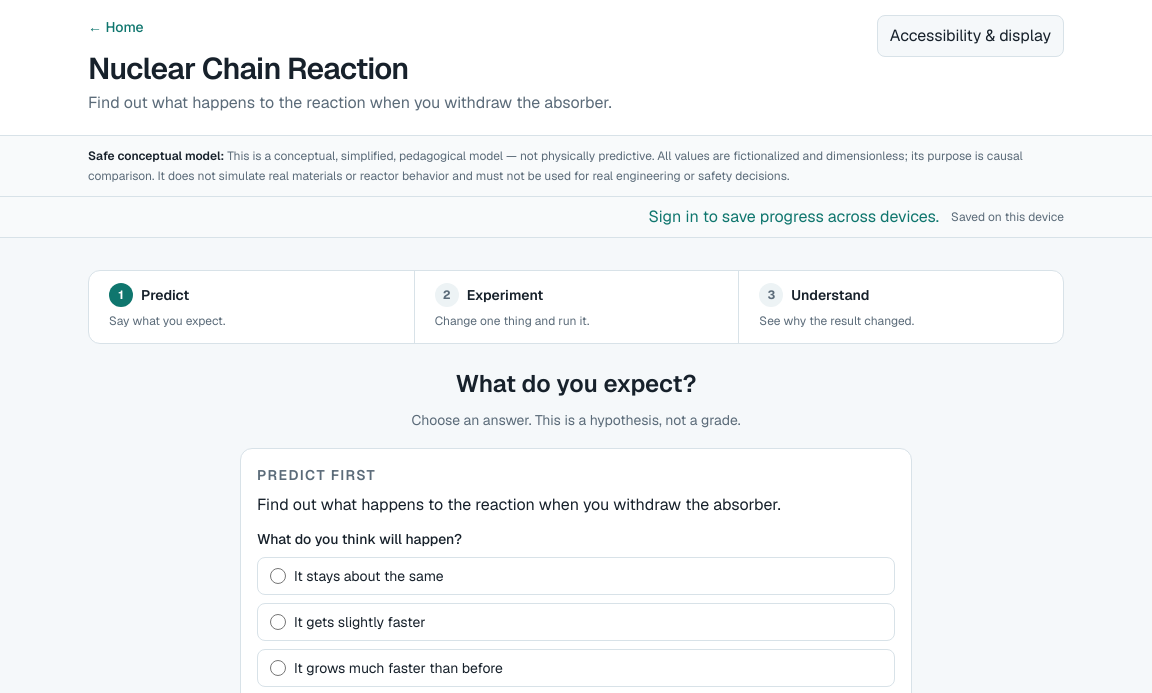
Test case: ExperimentShell main learner flow › shows the safety-ceiling notice for an explosive run
Click the radio button labelled "It gets slightly faster" at [278, 622], box [270,614,286,630]
(page scrolled)
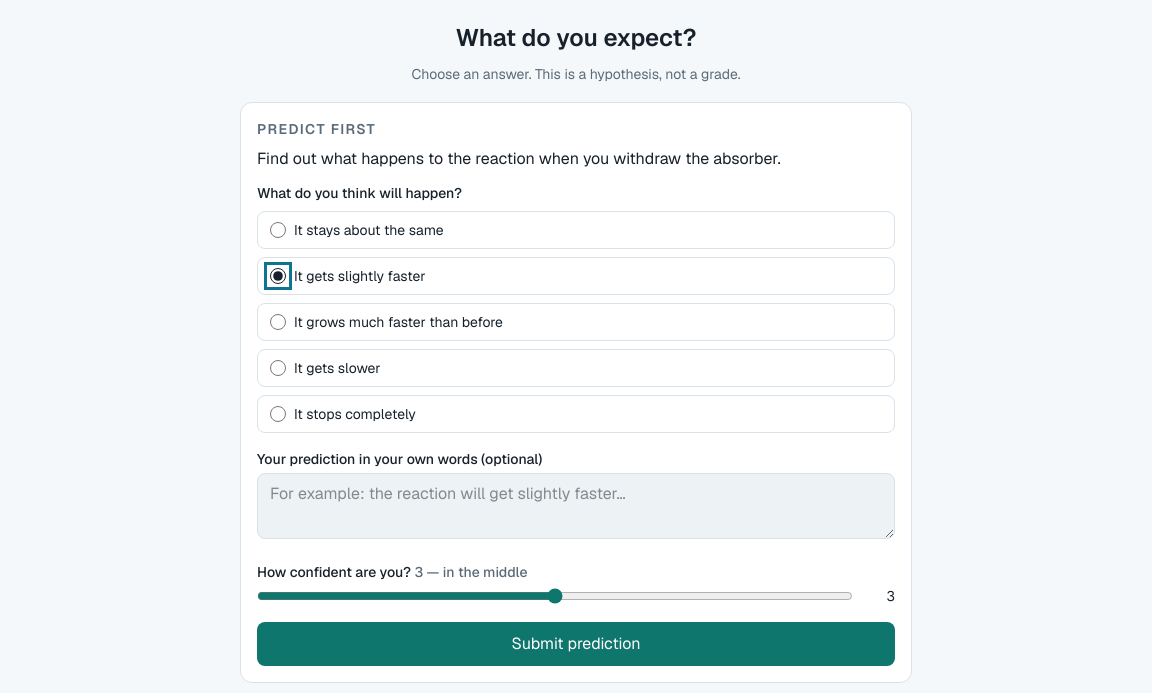
Click the button "Submit prediction" at [576, 644], box [257,622,895,666]
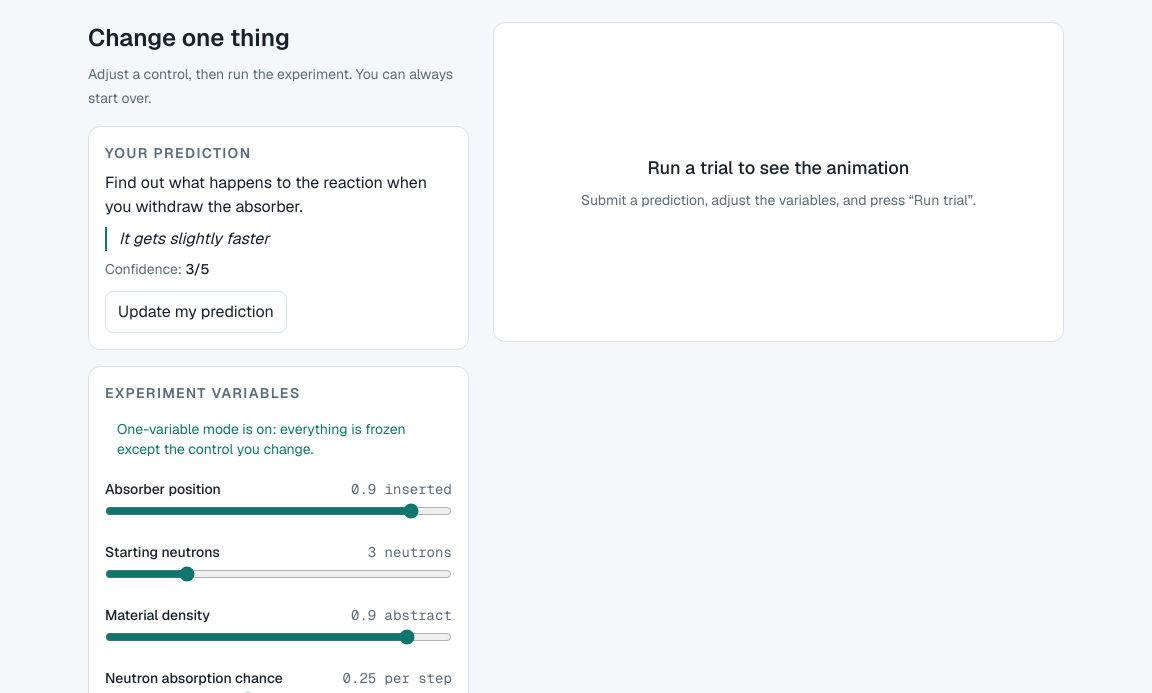
Set the slider labelled "Absorber position" to "0" at [113, 511], box [105,503,452,519]
(page scrolled)
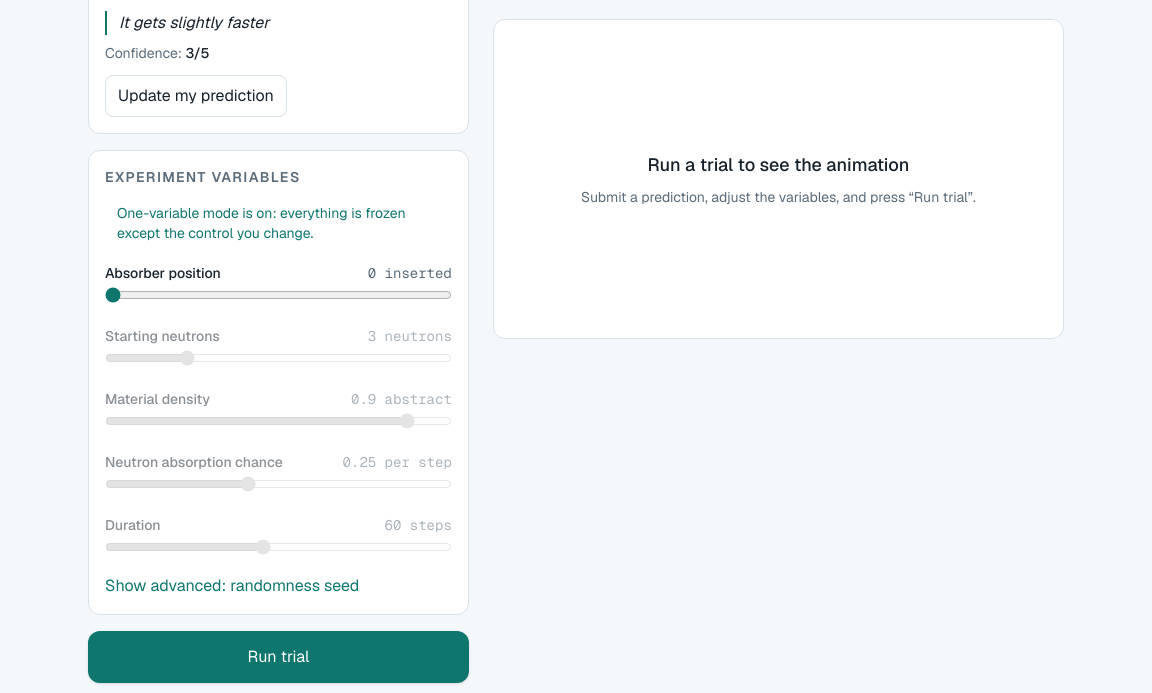
Click the button "Run trial" at [278, 657], box [88,631,469,683]
(page scrolled)
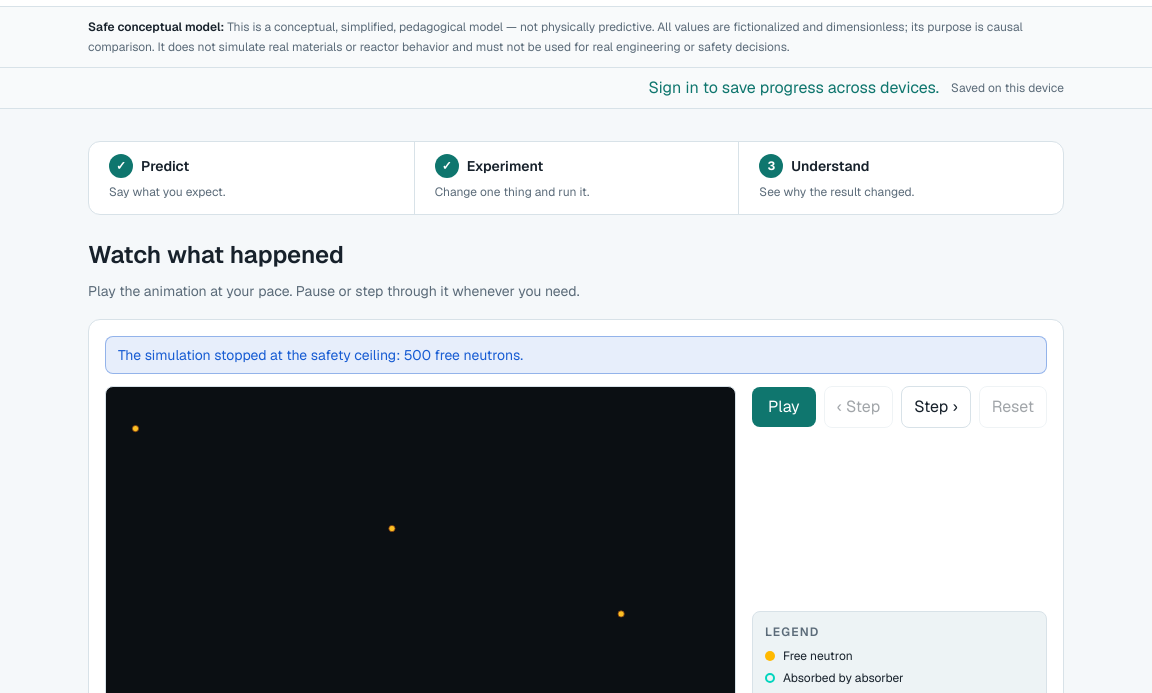
Now the text "The simulation stopped at the safety ceiling: 500 free neutrons." is shown, box [105,336,1047,374]
